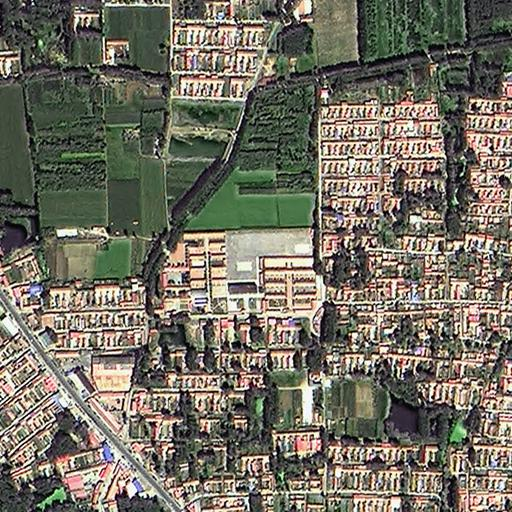school: (224, 227, 318, 315)
